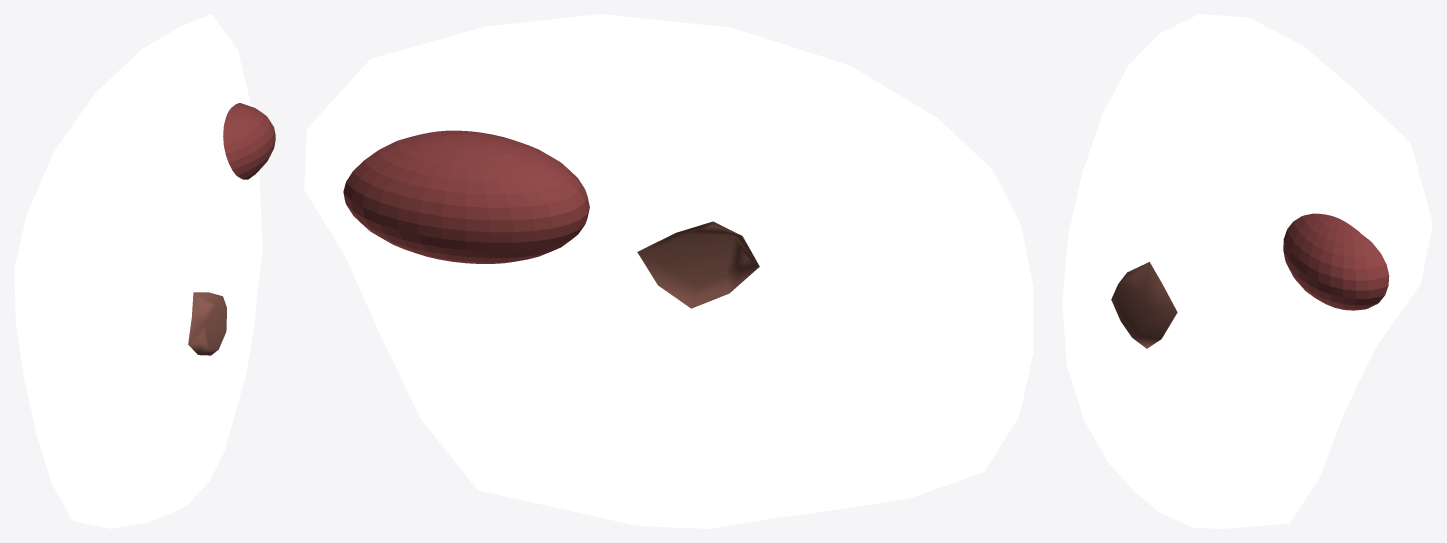
File: masa_caso_003.glb
The picture shows the model from 3 angles, left to right: view 1: azimuth 30°, elevation 25°; view 2: azimuth 150°, elevation 25°; view 3: azimuth 270°, elevation 25°; orthographic projection. The views are drawn at different scales.
Parts seen in each view (by area): view 1: Mammary region.l, Sphere.002; view 2: Mammary region.l, Sphere.002; view 3: Mammary region.l, Sphere.002.
Part boxes in pixels (box(x1,y1,x2,y2)): Mammary region.l: box(14, 14, 262, 528); Sphere.002: box(223, 103, 275, 179); Mammary region.l: box(304, 14, 1033, 528); Sphere.002: box(343, 130, 589, 263); Mammary region.l: box(1062, 14, 1432, 528); Sphere.002: box(1283, 213, 1389, 310).
Size of the model in its own units: 0.078 by 0.0816 by 0.0578.
